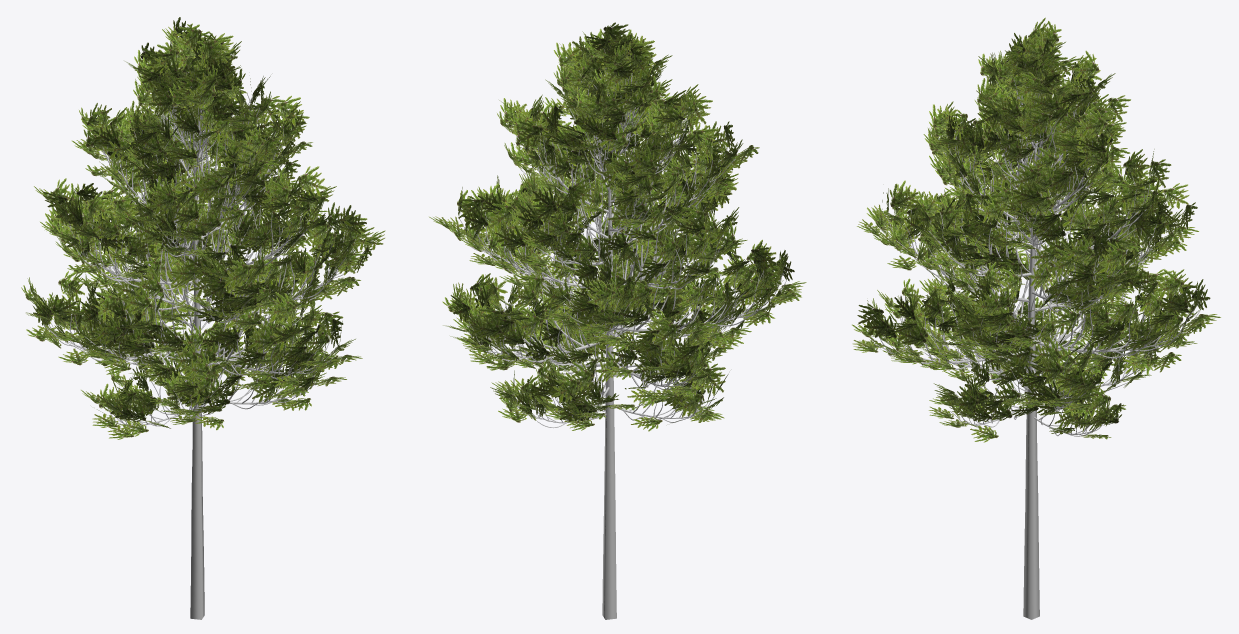
The model's file is Arbol2.fbx.
The picture shows the model from 3 angles, left to right: view 1: azimuth 30°, elevation 25°; view 2: azimuth 150°, elevation 25°; view 3: azimuth 270°, elevation 25°; orthographic projection.
Parts seen in each view (by area): view 1: leaves, tree; view 2: leaves, tree; view 3: leaves, tree.
Part boxes in pixels (x1,y1,x2,y2): leaves: (21,17,385,439); tree: (45,69,364,619); leaves: (429,22,806,431); tree: (458,47,786,619); leaves: (852,17,1220,442); tree: (873,63,1199,619).
Bounding box in the file's own units: 1.98 × 3.42 × 1.99.
